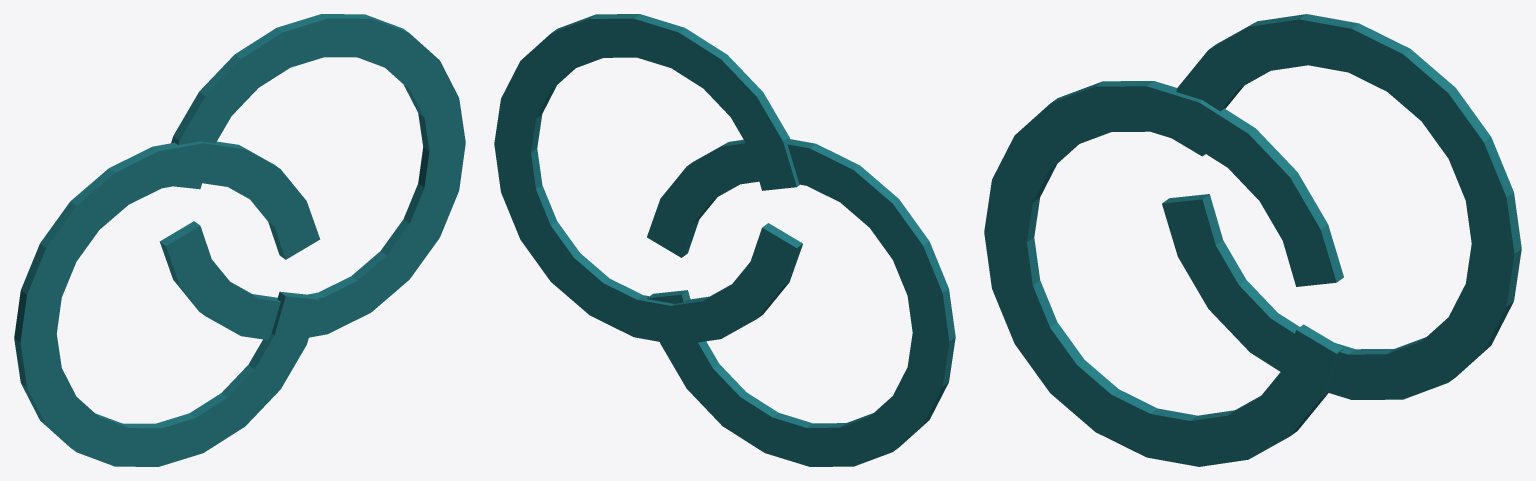
Rendered from icon_snowball.glb.
3 views of the same model, side by side, from view 1: azimuth 30°, elevation 25°; view 2: azimuth 150°, elevation 25°; view 3: azimuth 330°, elevation 25° (orthographic). The views are drawn at different scales.
Parts seen in each view (by area): view 1: icon_snowball; view 2: icon_snowball; view 3: icon_snowball.
Part boxes in pixels (x1,y1,x2,y2): icon_snowball: (14,14,465,466); icon_snowball: (494,14,955,466); icon_snowball: (984,14,1521,466).
Bounding box in the file's own units: 0.37 × 0.319 × 0.013.
